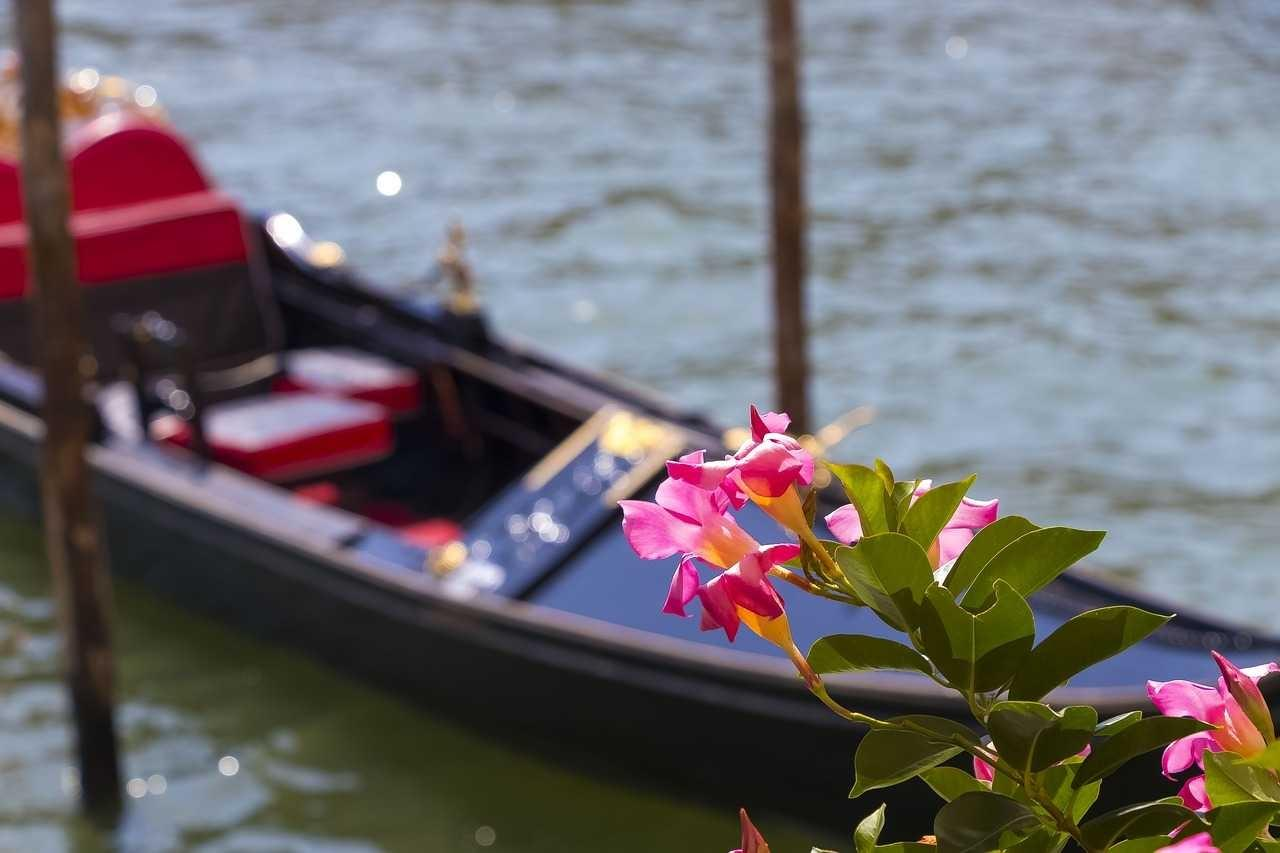kayak: (1, 48, 963, 769)
